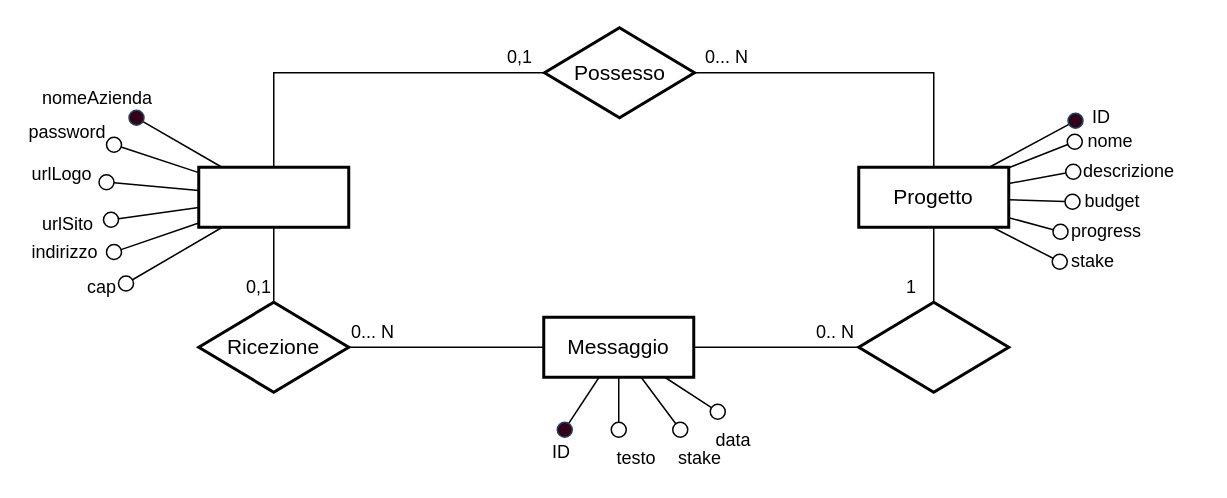
The diagram is 1227 pixels wide and 498 high, and some of its shapes have lost their labels. Here are the shapes that lost their labels. From the top down, the centre of each, then its label:
At pixel 273 196: "Azienda".
At pixel 933 346: "Relativo a".
